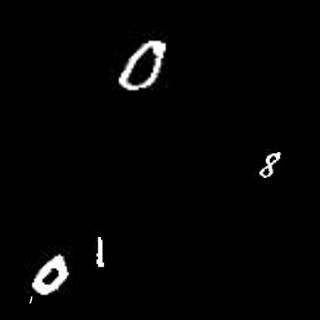eight: (257, 150, 282, 181)
one: (94, 234, 105, 269), (28, 294, 36, 304)
zero: (119, 36, 164, 94), (28, 249, 72, 290)
